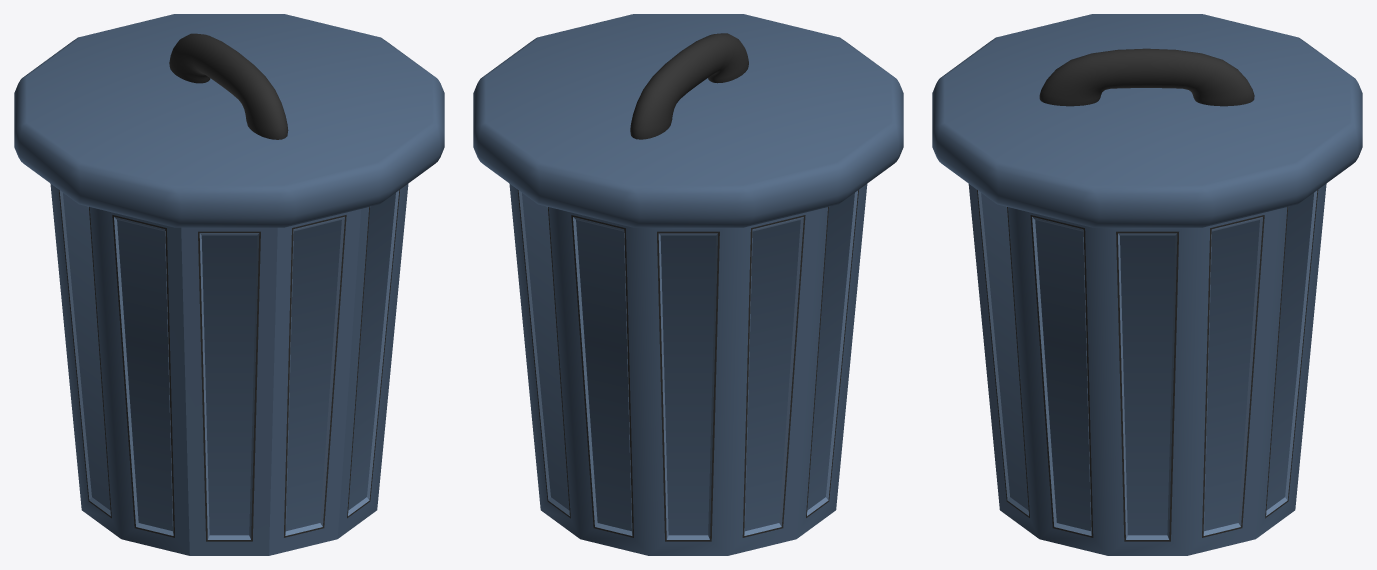
Rendered from 3d_Bin.fbx.
The picture shows the model from 3 angles, left to right: view 1: azimuth 30°, elevation 25°; view 2: azimuth 150°, elevation 25°; view 3: azimuth 270°, elevation 25°; orthographic projection.
Visible parts, largest first — view 1: 3d_Bin; view 2: 3d_Bin; view 3: 3d_Bin.
Boxes of the visible parts, x1,y1,x2,y2 form: 3d_Bin: (14,14,444,555); 3d_Bin: (473,14,903,555); 3d_Bin: (932,14,1362,555).
Bounding box in the file's own units: 0.6385 × 0.7264 × 0.6386.
